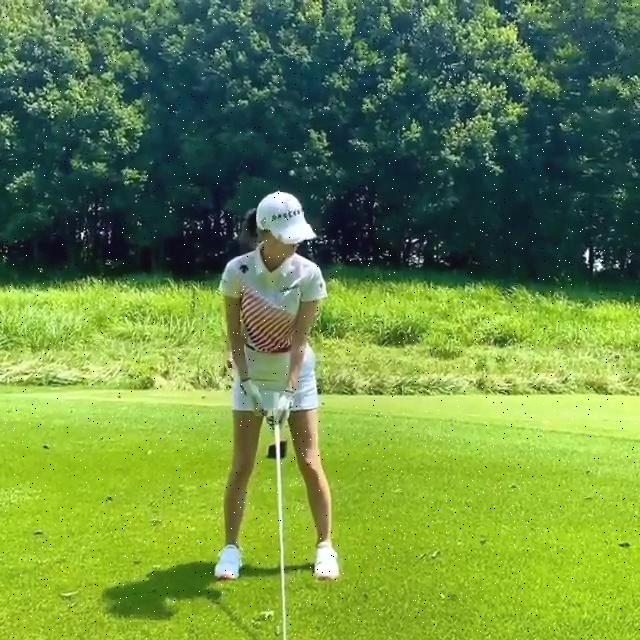golf club-handle: (272, 391, 287, 640)
